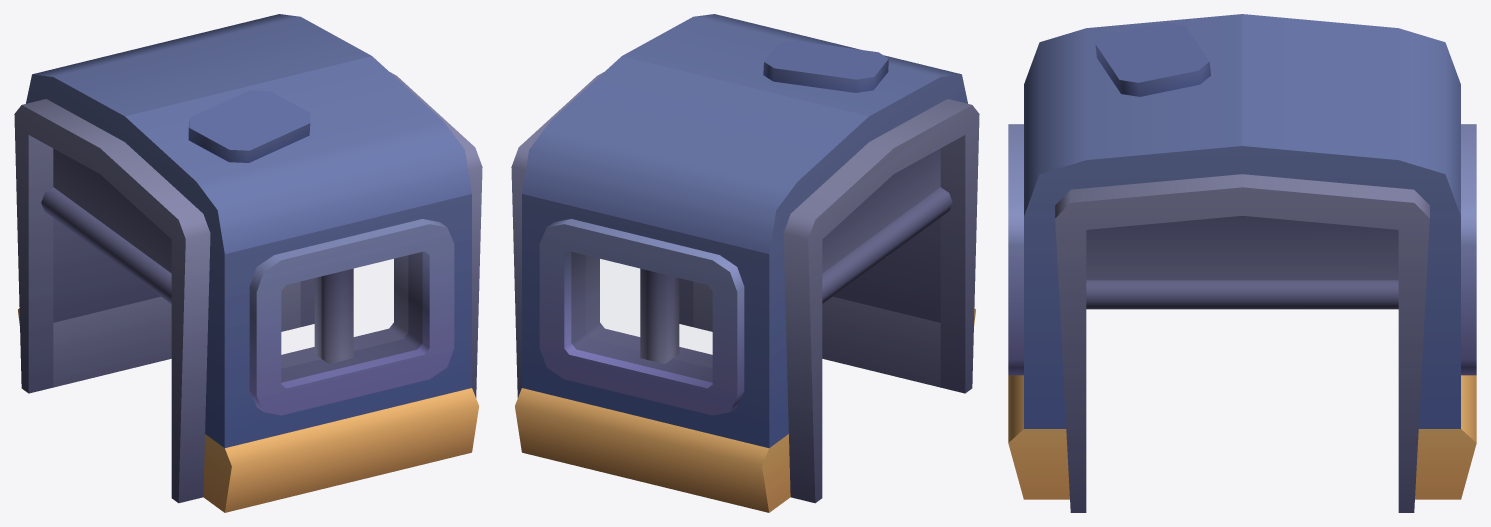
File: machine-window-bar.glb
The picture shows the model from 3 angles, left to right: view 1: azimuth 30°, elevation 25°; view 2: azimuth 150°, elevation 25°; view 3: azimuth 270°, elevation 25°; orthographic projection. The views are drawn at different scales.
Parts seen in each view (by area): view 1: machine-window-bar; view 2: machine-window-bar; view 3: machine-window-bar.
Boxes of the visible parts, x1,y1,x2,y2 form: machine-window-bar: (14,14,482,512); machine-window-bar: (511,14,979,512); machine-window-bar: (1008,14,1476,512).
Bounding box in the file's own units: 1.2 × 1.29 × 1.5.
2 materials, 1 textured.
